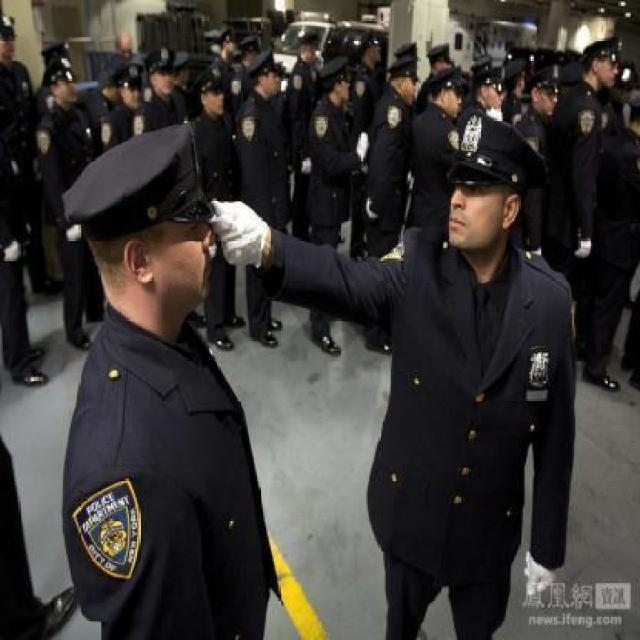face_nomask: (140, 203, 226, 303), (434, 163, 512, 251)
hand_glove: (210, 197, 268, 271), (523, 546, 554, 602), (572, 237, 591, 260), (355, 131, 368, 158), (63, 223, 80, 242), (6, 240, 20, 262), (300, 157, 312, 175)
person: (58, 146, 310, 640), (351, 114, 580, 640), (235, 53, 303, 364), (305, 55, 372, 357)
